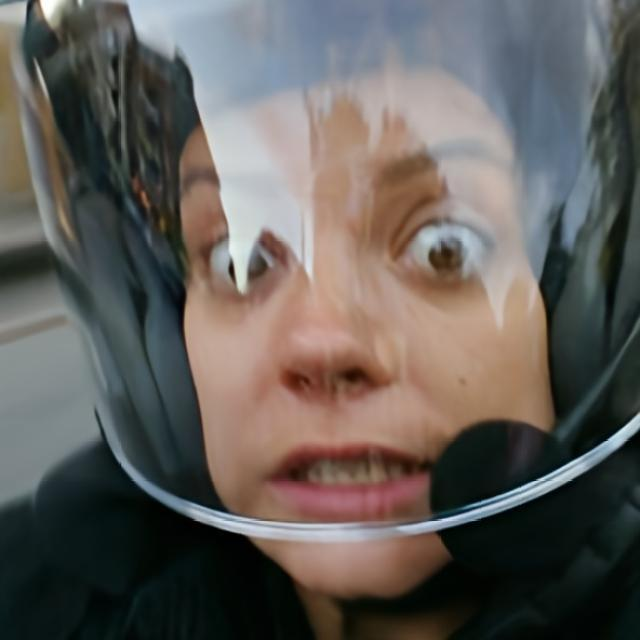fear: (178, 69, 550, 600)
